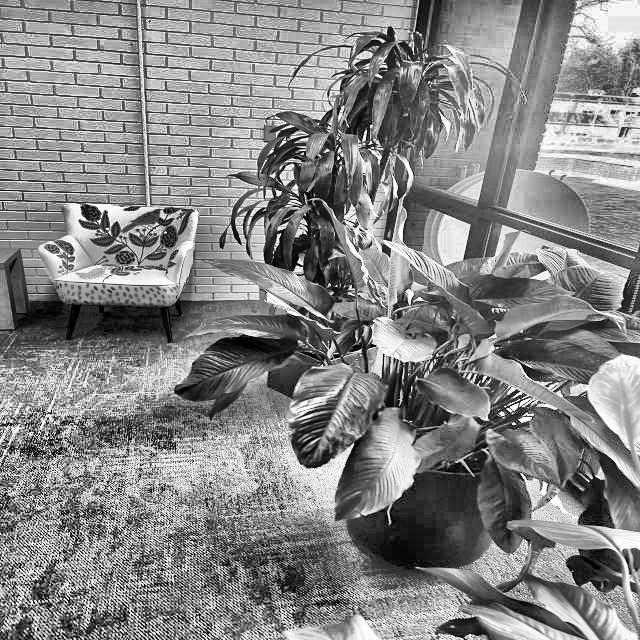plants: (300, 250, 586, 486), (305, 42, 435, 296)
